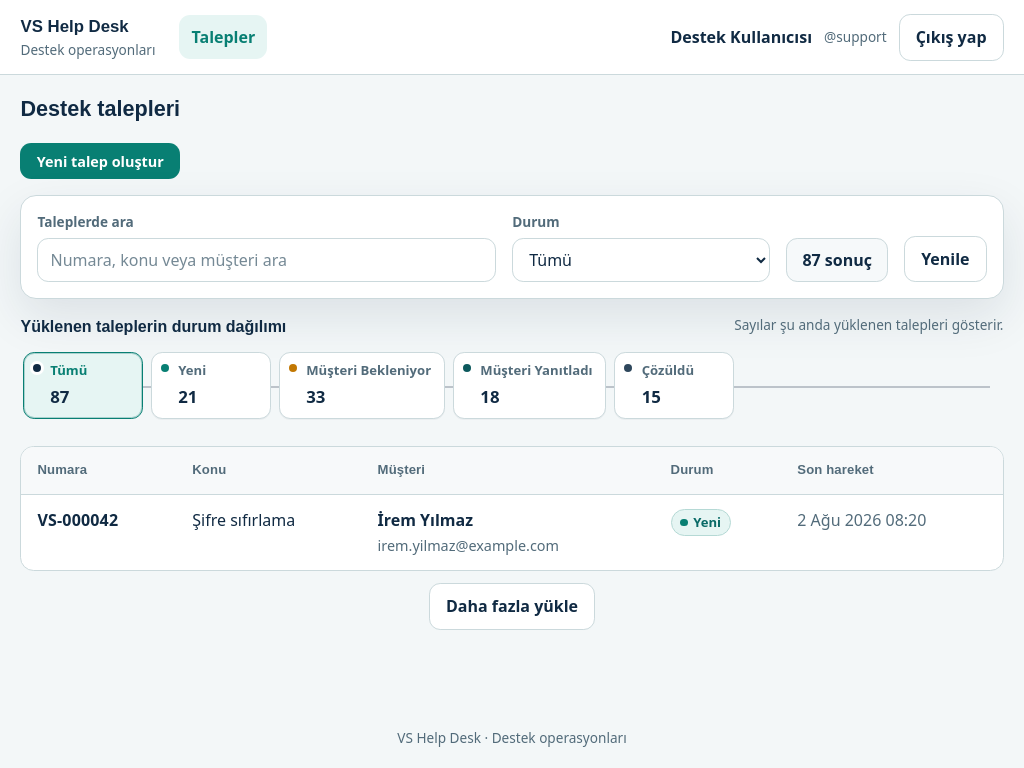
Scenario: TicketListPage › preserves rows and offers retry after a load-more error
What coordinates should you click on to do the following:
click the button "Daha fazla yükle"
I would click on:
 (512, 606)
Its box is [429,583,595,630].
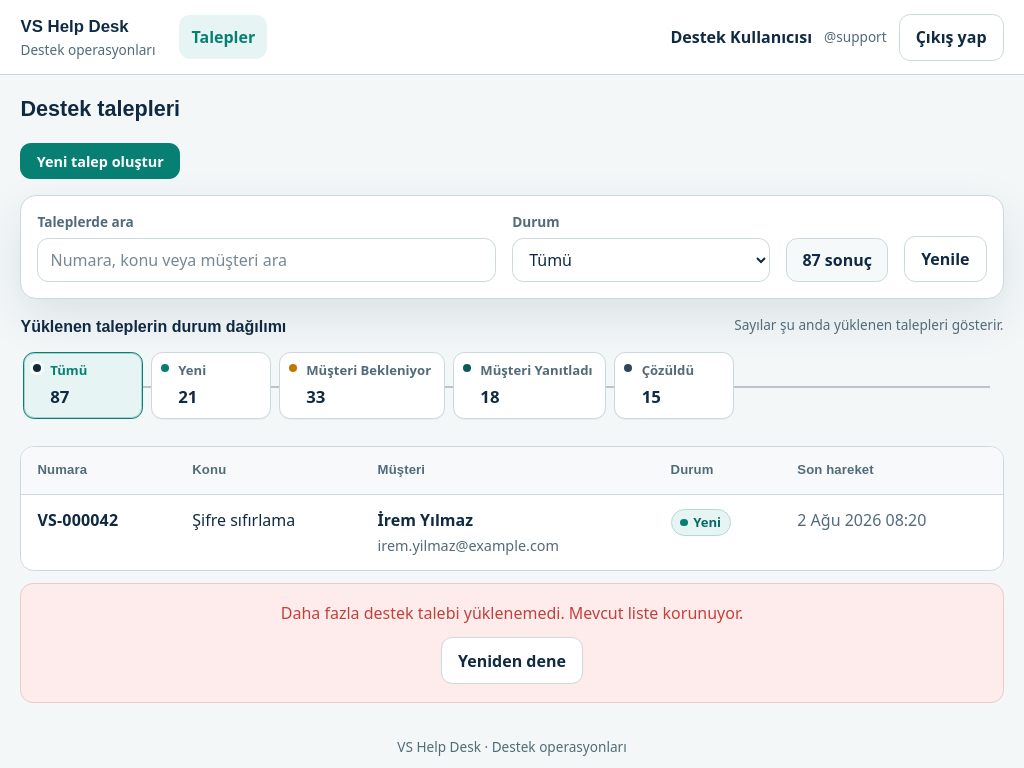
Expected: the link "VS-000042" is shown, [38,509,118,531]
Result: the message shows "Daha fazla destek talebi yüklenemedi. Mevcut liste korunuyor." at [281,602,743,624]
What coordinates should you click on to do the following:
click the button "Yeniden dene"
I would click on:
 (512, 661)
Its box is [441,637,583,684].
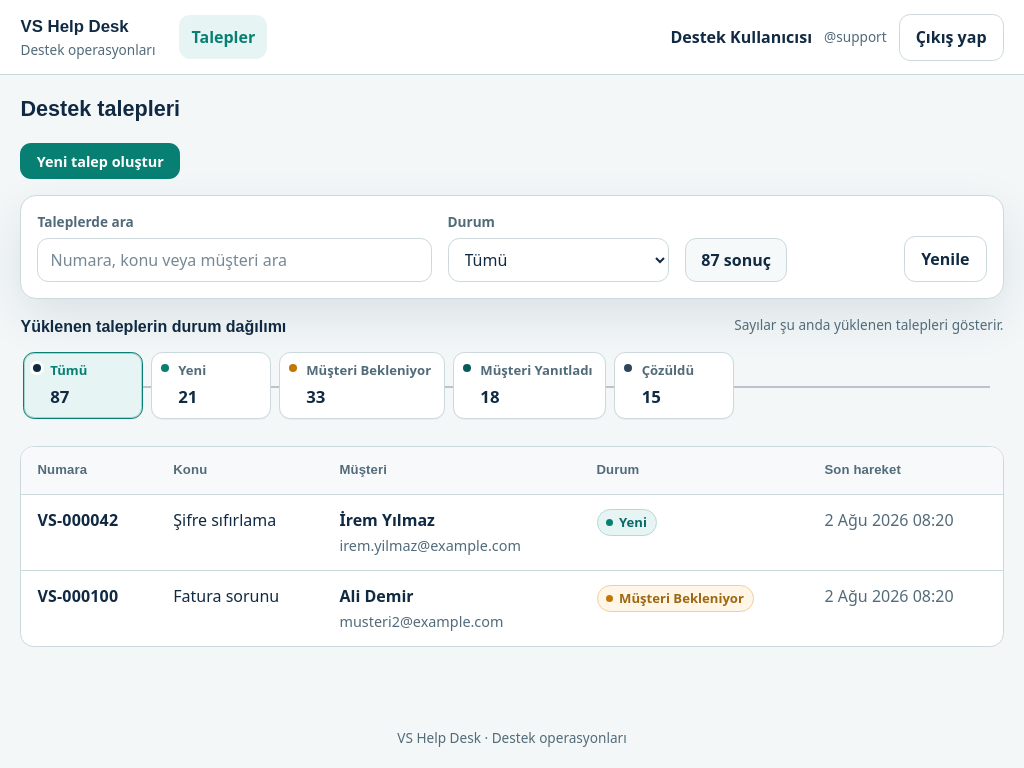
Result: the link "VS-000100" is shown at [38,585,118,607]
